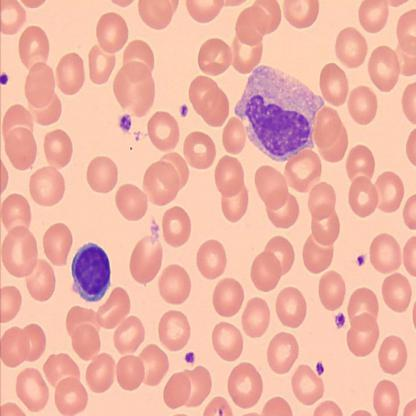Metamyelocyte: (233, 62, 327, 162)
